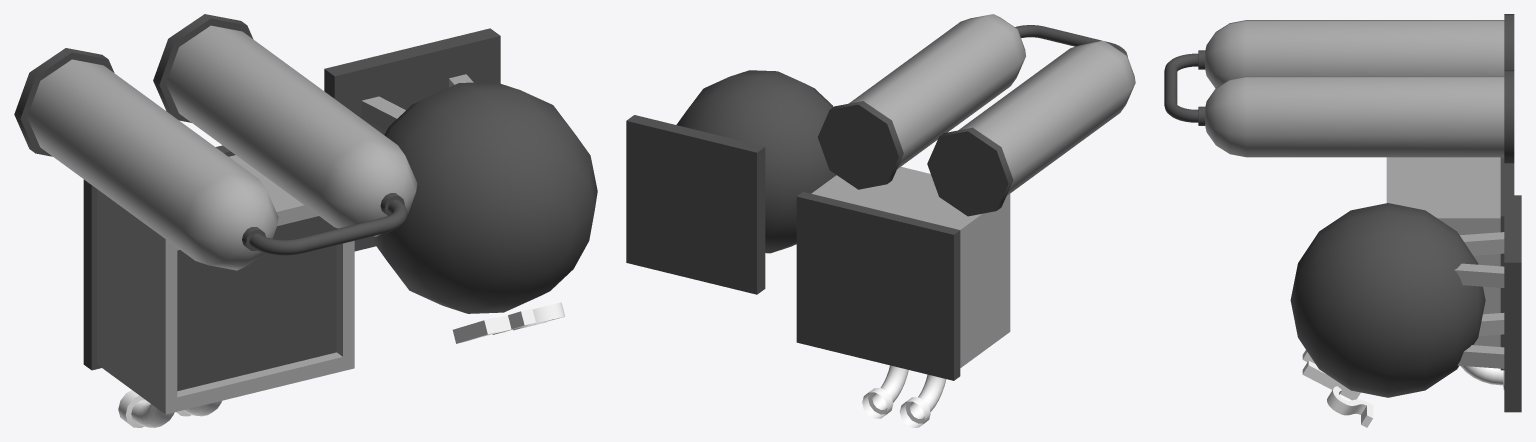
File: hydrogen.obj
The picture shows the model from 3 angles, left to right: view 1: azimuth 30°, elevation 25°; view 2: azimuth 150°, elevation 25°; view 3: azimuth 270°, elevation 25°; orthographic projection. The views are drawn at different scales.
Parts seen in each view (by area): view 1: hydrogen; view 2: hydrogen; view 3: hydrogen.
Boxes of the visible parts, bbox=[...] form: hydrogen: bbox=[14, 14, 597, 427]; hydrogen: bbox=[626, 14, 1135, 427]; hydrogen: bbox=[1164, 14, 1521, 427].
Size of the model in its own units: 10.86 by 8.26 by 8.21.
